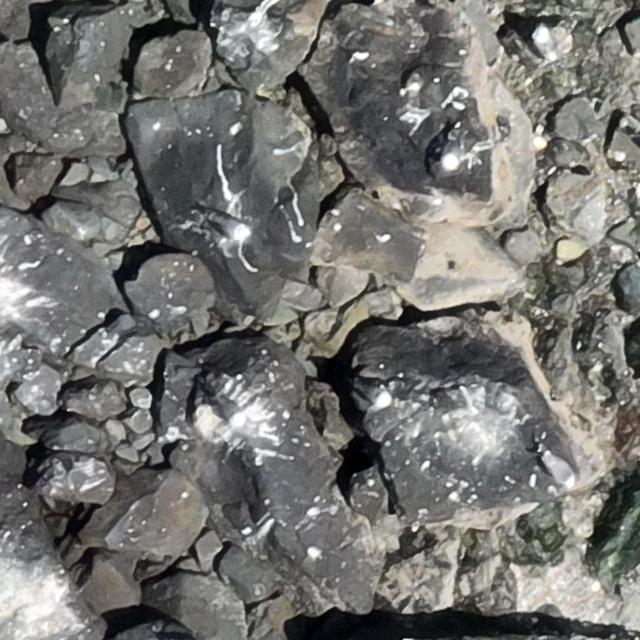umineko: (202, 202, 249, 240), (532, 24, 558, 64), (548, 454, 574, 484), (355, 384, 389, 406)
